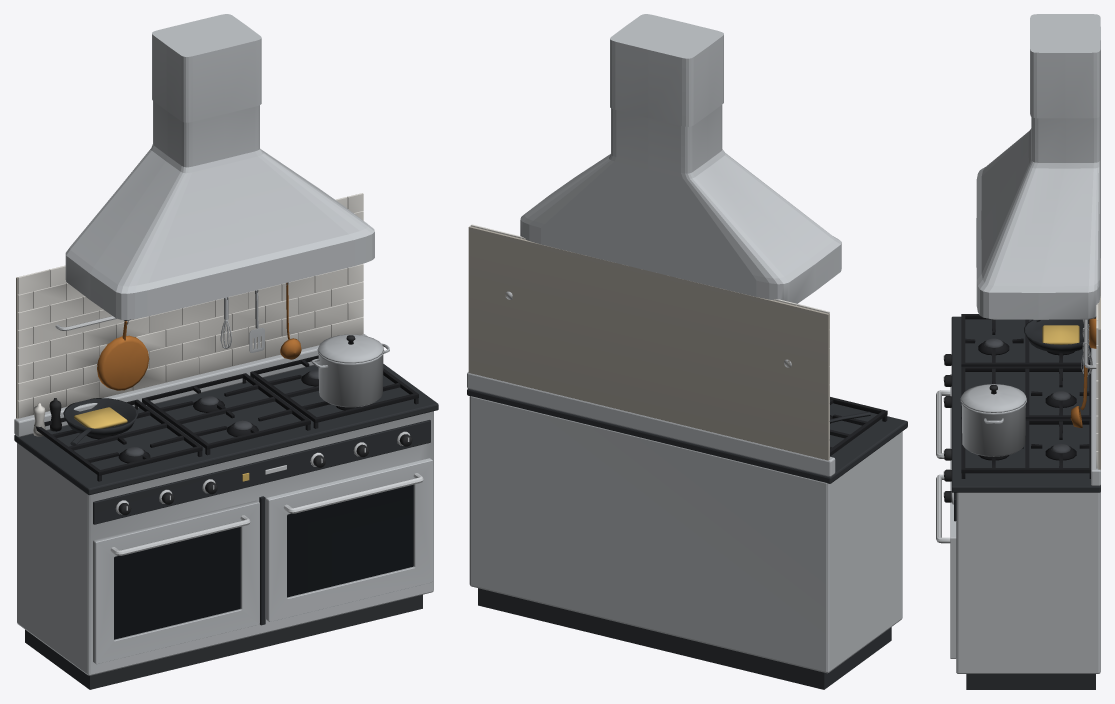
Rendered from chefStove.glb.
The picture shows the model from 3 angles, left to right: view 1: azimuth 30°, elevation 25°; view 2: azimuth 150°, elevation 25°; view 3: azimuth 270°, elevation 25°; orthographic projection. The views are drawn at different scales.
Parts seen in each view (by area): view 1: body, oven_door; view 2: body; view 3: body, oven_door.
Boxes of the visible parts, left/top/right/bottom form: body: left=14, top=14, right=438, bottom=689; oven_door: left=266, top=458, right=432, bottom=621; body: left=467, top=14, right=907, bottom=689; body: left=936, top=14, right=1100, bottom=689; oven_door: left=936, top=460, right=956, bottom=658.
Bounding box in the file's own units: 1.62 × 2.55 × 0.662.
